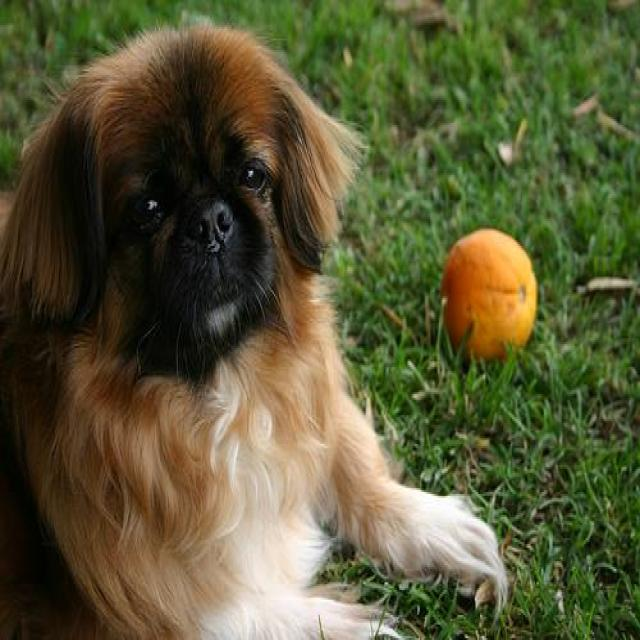sad: (13, 19, 357, 392)
